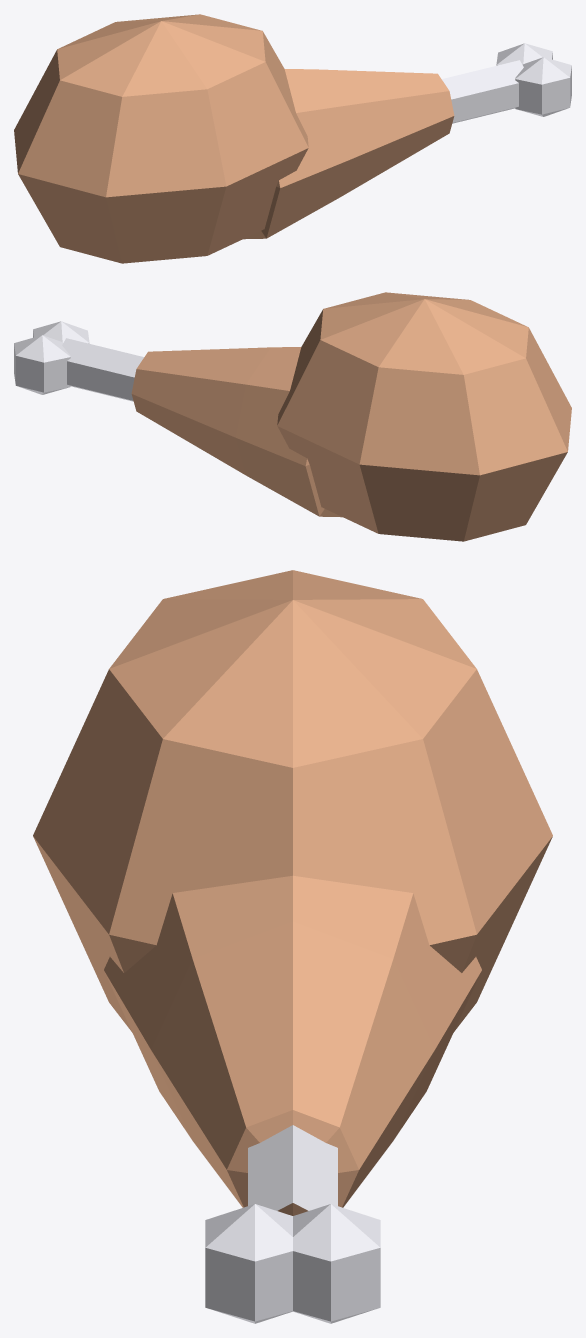
File: chicken-raw.glb
3 views of the same model, one above another, from view 1: azimuth 30°, elevation 25°; view 2: azimuth 150°, elevation 25°; view 3: azimuth 270°, elevation 25° (orthographic). The views are drawn at different scales.
Visible parts, largest first — view 1: chicken-raw; view 2: chicken-raw; view 3: chicken-raw.
Boxes of the visible parts, x1=… form: chicken-raw: x1=14, y1=14, x2=571, y2=263; chicken-raw: x1=14, y1=292, x2=571, y2=541; chicken-raw: x1=33, y1=570, x2=552, y2=1323.
Size of the model in its own units: 0.2659 by 0.11 by 0.11.
1 material, 1 textured.
